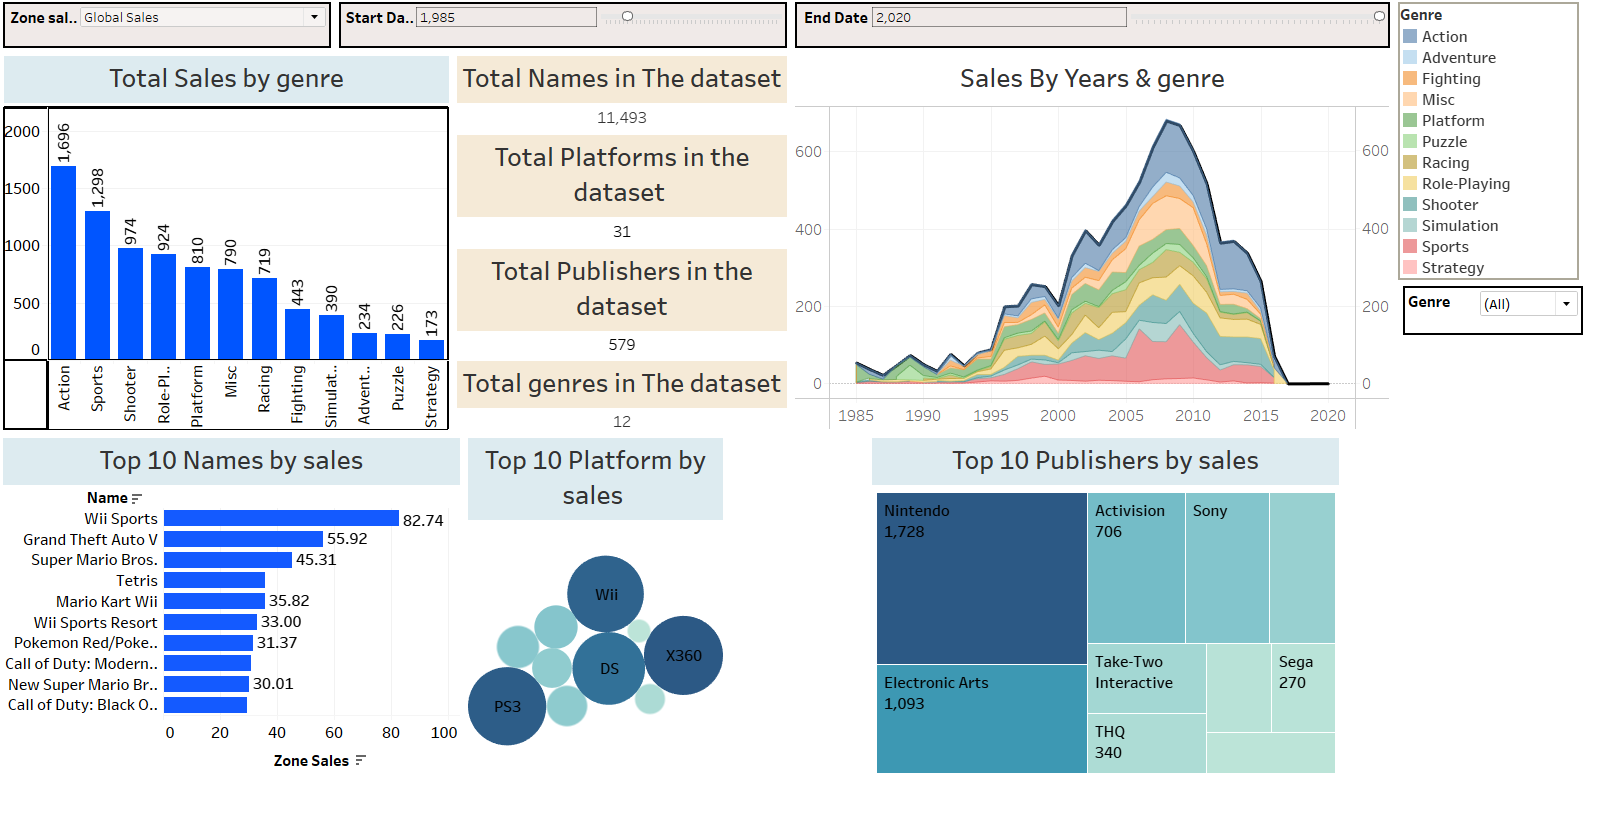

What the dashboard file says about the page in this screenshot:
{"tool":"tableau","page":{"name":"Dashboard 1","canvas":[1600,800],"ordinal":0},"visuals":[{"type":"parameter","param":"[Parameters].[Parameter 1]","box":[8,8,335.9,54.2]},{"type":"parameter","param":"[Parameters].[Parameter 2]","box":[343.9,8,456.1,54.2]},{"type":"parameter","param":"[Parameters].[Parameter 3]","box":[800,8,603,54.1]},{"type":"legend","title":"Sales By Years & genre","param":"[federated.1r04z5p13ozcyf11vr9y218jxkxl].[none:Genre:nk]","box":[1403,8,189,286]},{"type":"worksheet","title":"Sales By Years & genre","mark":"Area","rows":["Calculation_238690834708021248","Calculation_238690834708021248"],"cols":["Year"],"box":[800,62.1,603,382.2]},{"type":"worksheet","title":"Total Sales by genre","mark":"Automatic","rows":["Calculation_238690834708021248"],"cols":["Genre"],"box":[8,62.2,454,382.2]},{"type":"worksheet","title":"Total Names in The dataset","mark":"Automatic","box":[462,62.2,338,78.8]},{"type":"worksheet","title":"Total Platforms in the dataset ","mark":"Automatic","box":[462,141,338,114]},{"type":"worksheet","title":"Total Publishers in the dataset","mark":"Automatic","box":[462,255,338,112]},{"type":"filter","title":"Sales By Years & genre","param":"[federated.1r04z5p13ozcyf11vr9y218jxkxl].[none:Genre:nk]","box":[1412,296,180,49]},{"type":"worksheet","title":"Total genres in The dataset ","mark":"Automatic","box":[462,367,338,77.3]},{"type":"worksheet","title":"Top 10 Names by sales","mark":"Automatic","rows":["Name"],"cols":["Calculation_238690834708021248"],"box":[8,444.3,464.7,347.7]},{"type":"worksheet","title":"Top 10 Platform by sales ","mark":"Circle","box":[472.7,444.3,445.1,347.7]},{"type":"worksheet","title":"Top 10 Publishers by sales","mark":"Automatic","box":[917.8,444.3,485.2,347.7]}]}

Visuals, with their boxes in screenshot pixels (x1, y1, x2, y2), scaled from the page's 1600x800 canvas onto the 1615x815 screenshot:
parameter: x1=8, y1=8, x2=347, y2=63
parameter: x1=347, y1=8, x2=807, y2=63
parameter: x1=807, y1=8, x2=1416, y2=63
"Sales By Years & genre" legend: x1=1416, y1=8, x2=1607, y2=300
"Sales By Years & genre" worksheet (Area marks): x1=807, y1=63, x2=1416, y2=453
"Total Sales by genre" worksheet: x1=8, y1=63, x2=466, y2=453
"Total Names in The dataset" worksheet: x1=466, y1=63, x2=807, y2=144
"Total Platforms in the dataset " worksheet: x1=466, y1=144, x2=807, y2=260
"Total Publishers in the dataset" worksheet: x1=466, y1=260, x2=807, y2=374
"Sales By Years & genre" filter: x1=1425, y1=302, x2=1607, y2=351
"Total genres in The dataset " worksheet: x1=466, y1=374, x2=807, y2=453
"Top 10 Names by sales" worksheet: x1=8, y1=453, x2=477, y2=807
"Top 10 Platform by sales " worksheet (Circle marks): x1=477, y1=453, x2=926, y2=807
"Top 10 Publishers by sales" worksheet: x1=926, y1=453, x2=1416, y2=807
